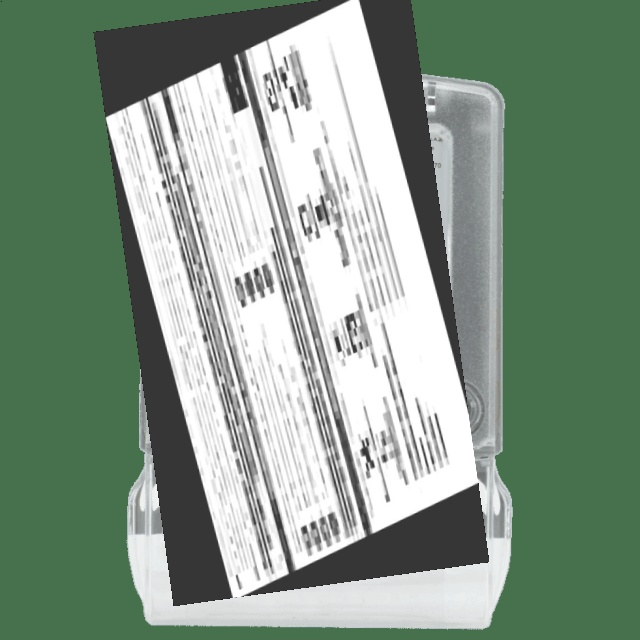electricity-bill: (92, 0, 488, 605)
